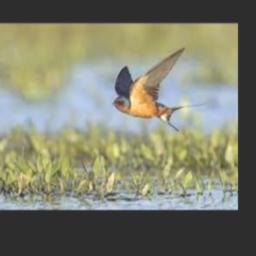Swallow: (112, 47, 207, 132)
